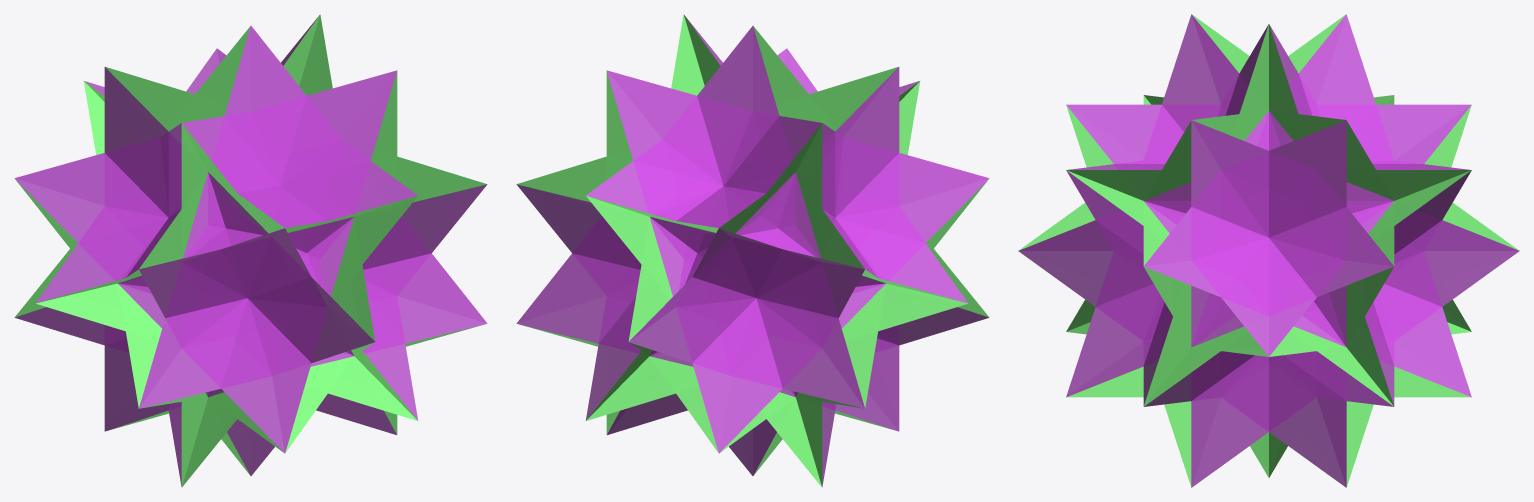
File: GreatIcosihemidodecahedron.obj
The picture shows the model from 3 angles, left to right: view 1: azimuth 30°, elevation 25°; view 2: azimuth 150°, elevation 25°; view 3: azimuth 270°, elevation 25°; orthographic projection.
Size of the model in its own units: 1.24 by 1.24 by 1.24.
